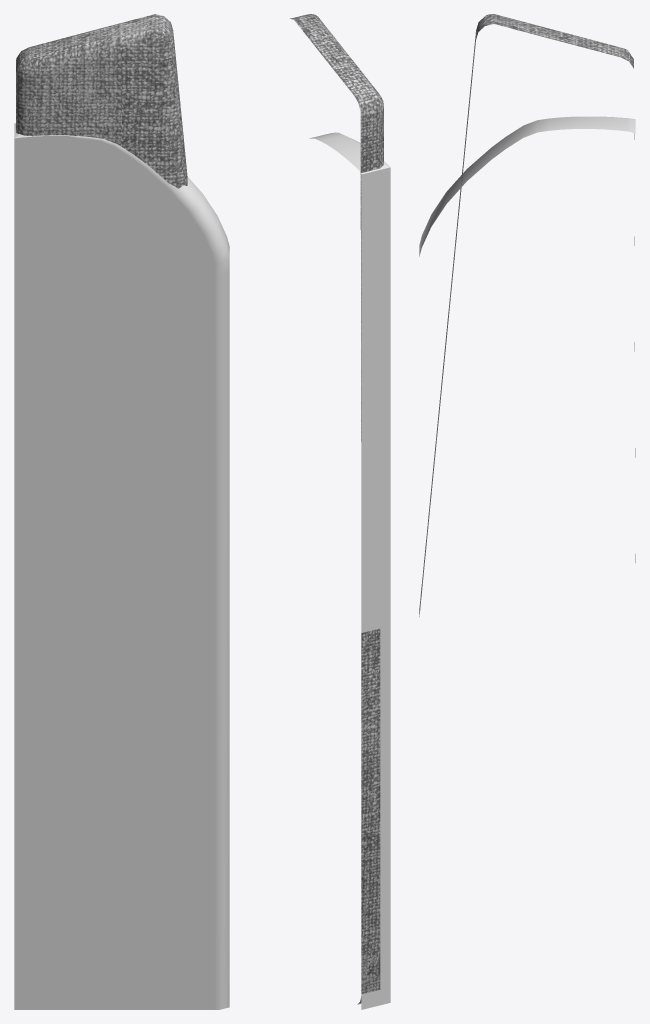
Rendered from singlebackR.gltf.
3 views of the same model, side by side, from view 1: azimuth 90°, elevation 25°; view 2: azimuth 210°, elevation 25°; view 3: azimuth 270°, elevation 25° (orthographic). The views are drawn at different scales.
Visible parts, largest first — view 1: SingleBackR; view 2: SingleBackR; view 3: SingleBackR.
Part boxes in pixels (x1,y1,x2,y2): SingleBackR: (14,14,229,1009); SingleBackR: (290,14,390,1009); SingleBackR: (419,14,635,616).
Size of the model in its own units: 0.0249 by 0.7663 by 0.1524.
2 materials, 1 textured.
